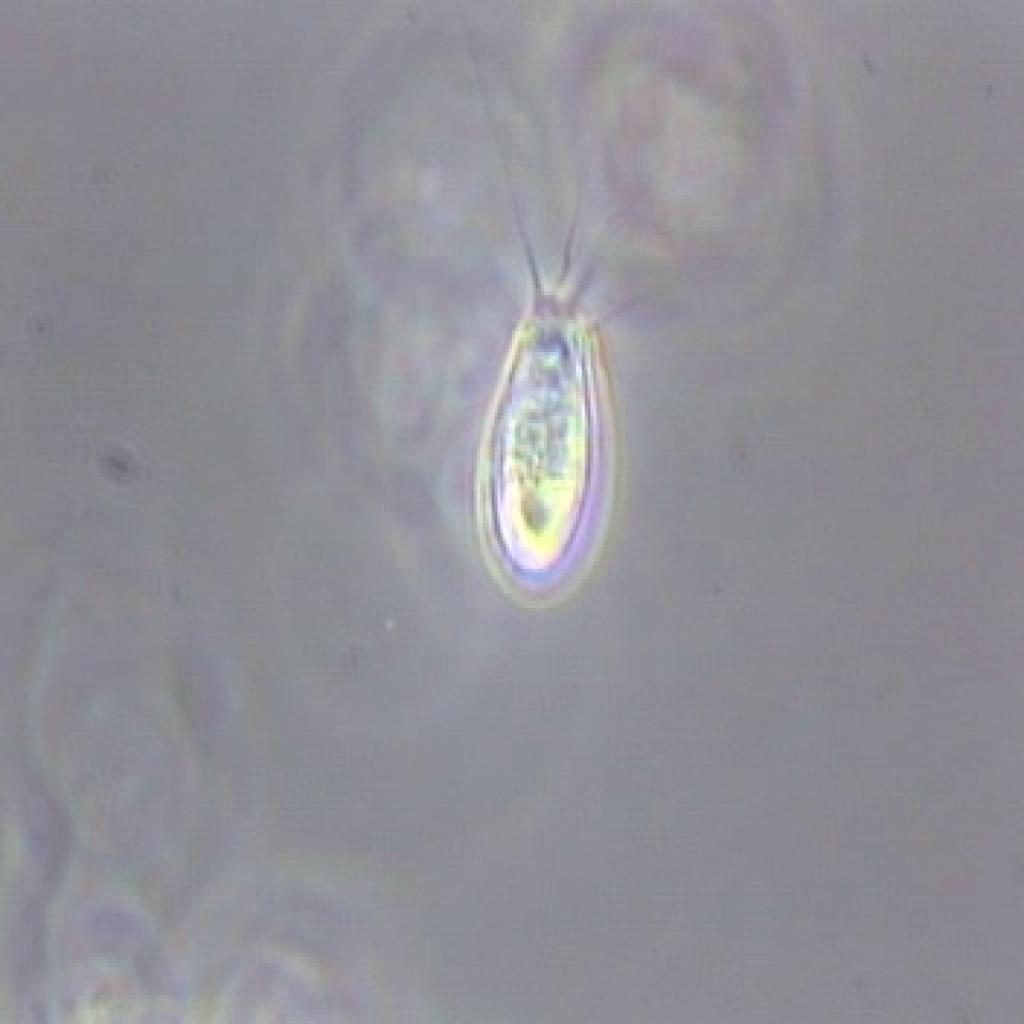Euglypha: (426, 206, 650, 626)
